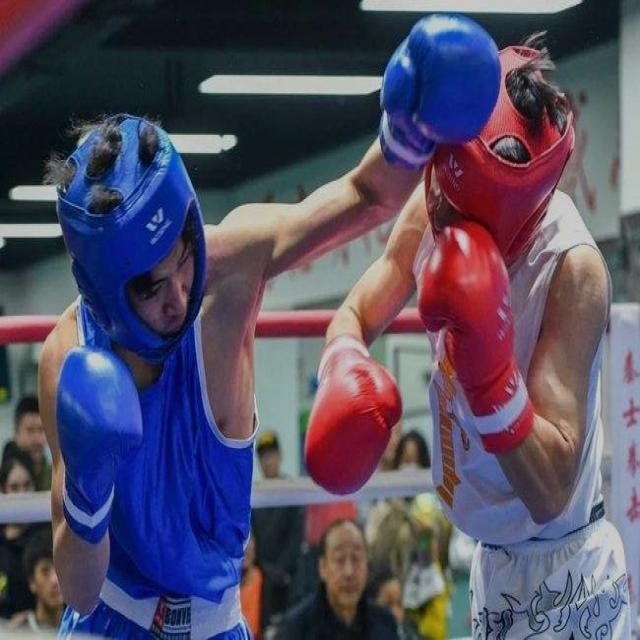fight: (2, 1, 617, 638)
